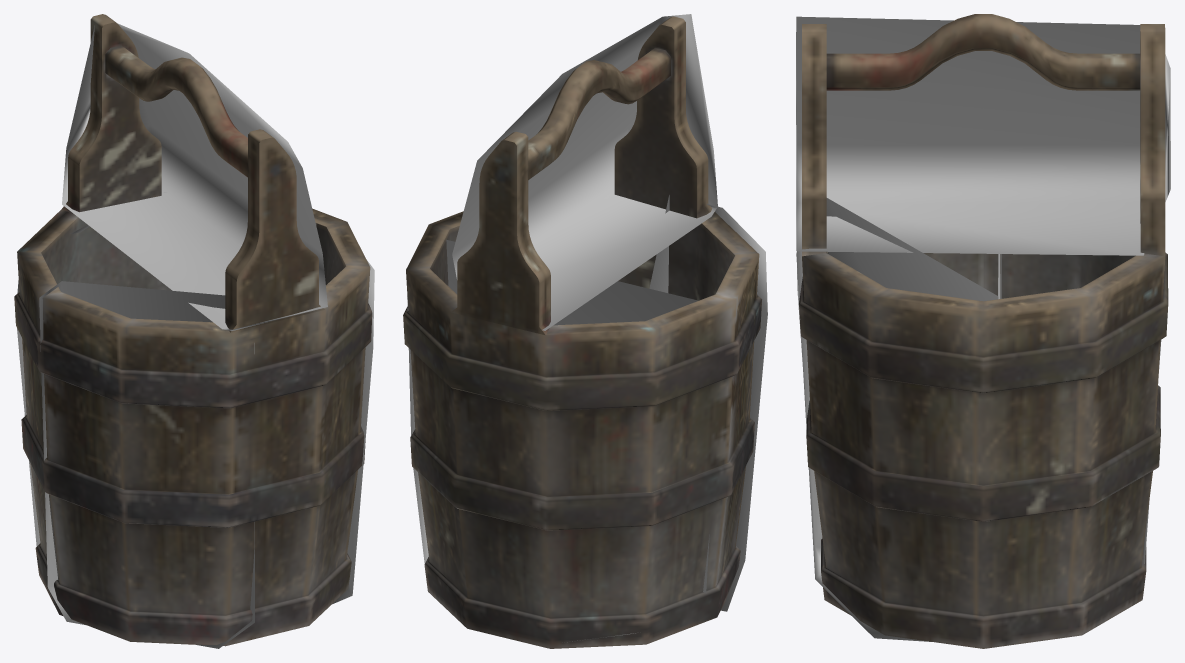
The model's file is SM_Bucket.gltf.
The picture shows the model from 3 angles, left to right: view 1: azimuth 30°, elevation 25°; view 2: azimuth 150°, elevation 25°; view 3: azimuth 270°, elevation 25°; orthographic projection. The views are drawn at different scales.
Parts seen in each view (by area): view 1: SM_Bucket_LOD0, SM_Bucket_ConvexHulls; view 2: SM_Bucket_LOD0, SM_Bucket_ConvexHulls; view 3: SM_Bucket_LOD0, SM_Bucket_ConvexHulls.
Boxes of the visible parts, x1,y1,x2,y2 form: SM_Bucket_LOD0: [14, 14, 372, 646]; SM_Bucket_ConvexHulls: [17, 23, 374, 648]; SM_Bucket_LOD0: [403, 16, 761, 648]; SM_Bucket_ConvexHulls: [407, 14, 767, 642]; SM_Bucket_LOD0: [799, 14, 1168, 648]; SM_Bucket_ConvexHulls: [796, 16, 1170, 641].
Size of what is drawn, in the model's own units: 0.3166 by 0.4991 by 0.3015.
